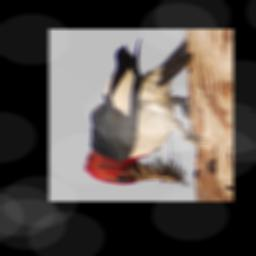Woodpecker: (84, 37, 208, 185)
